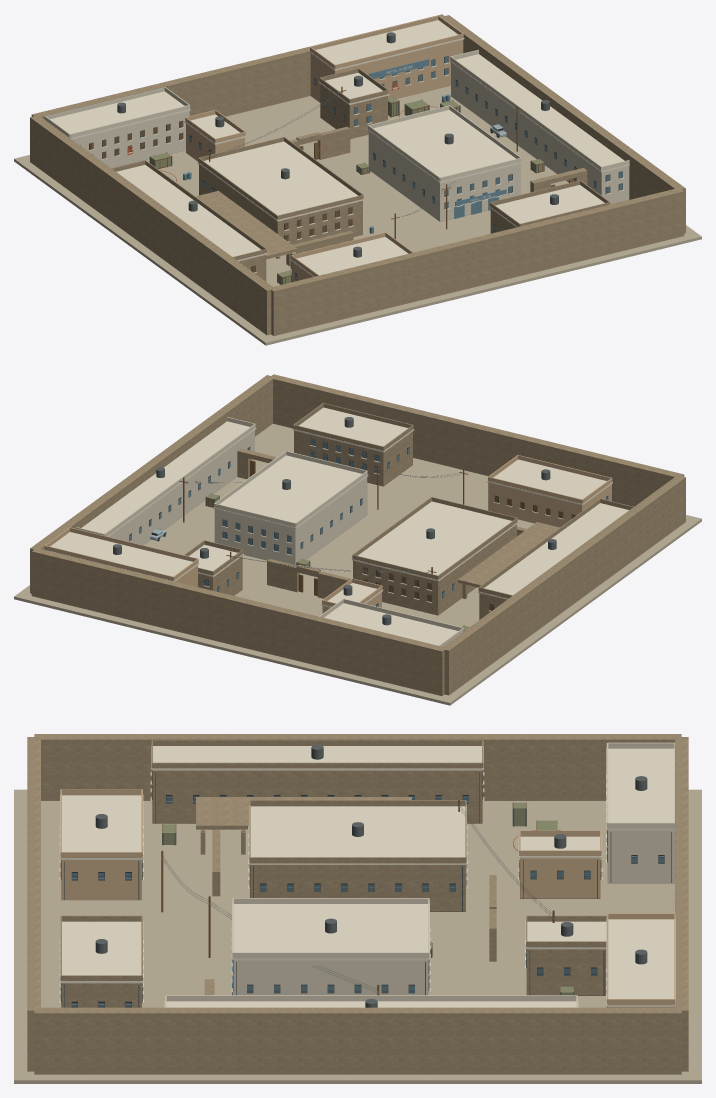
Rendered from dust_map.glb.
3 renders of one model, top to bottom at view 1: azimuth 30°, elevation 25°; view 2: azimuth 150°, elevation 25°; view 3: azimuth 270°, elevation 25°, orthographic. The views are drawn at different scales.
Visible parts, largest first — view 1: Perimeter.001, Ground, Perimeter.002, Perimeter, Cornice, Cornice.001, Building_07, Building_01, Perimeter.003, Cornice.007, Building_05, Cornice.006 (+19 smaller); view 2: Ground, Perimeter, Perimeter.002, Perimeter.001, Cornice, Building_01, Cornice.001, Perimeter.003, Building_07, Building_00, Cornice.007, Cornice.006 (+17 smaller); view 3: Ground, Perimeter.003, Perimeter.002, Cornice, Building_06, Cornice.001, Building_00, Building_01, Cornice.006, Cornice.005, Cornice.004, Cornice.002 (+26 smaller).
Part boxes in pixels (x1=…): Perimeter.001: x1=271, y1=188, x2=684, y2=335; Ground: x1=14, y1=85, x2=701, y2=345; Perimeter.002: x1=30, y1=116, x2=274, y2=335; Perimeter: x1=31, y1=14, x2=446, y2=119; Cornice: x1=197, y1=141, x2=364, y2=221; Cornice.001: x1=367, y1=110, x2=522, y2=183; Building_07: x1=451, y1=63, x2=629, y2=204; Building_01: x1=368, y1=132, x2=520, y2=221; Perimeter.003: x1=443, y1=15, x2=685, y2=233; Cornice.007: x1=450, y1=54, x2=629, y2=172; Building_05: x1=310, y1=39, x2=463, y2=102; Cornice.006: x1=116, y1=165, x2=267, y2=261; Ground: x1=14, y1=423, x2=701, y2=705; Perimeter: x1=31, y1=548, x2=446, y2=695; Perimeter.002: x1=441, y1=476, x2=685, y2=695; Perimeter.001: x1=269, y1=374, x2=684, y2=506; Cornice: x1=351, y1=501, x2=518, y2=581; Building_01: x1=214, y1=477, x2=367, y2=564; Cornice.001: x1=213, y1=455, x2=368, y2=528; Perimeter.003: x1=30, y1=375, x2=272, y2=593; Building_07: x1=109, y1=430, x2=254, y2=545; Building_00: x1=353, y1=524, x2=516, y2=615; Cornice.007: x1=81, y1=421, x2=256, y2=536; Cornice.006: x1=478, y1=503, x2=628, y2=599; Ground: x1=14, y1=789, x2=701, y2=1083; Perimeter.003: x1=34, y1=1007, x2=681, y2=1074; Perimeter.002: x1=34, y1=734, x2=681, y2=800; Cornice: x1=249, y1=805, x2=466, y2=864; Building_06: x1=152, y1=770, x2=482, y2=823; Cornice.001: x1=232, y1=903, x2=429, y2=960; Building_00: x1=250, y1=865, x2=465, y2=911; Building_01: x1=233, y1=960, x2=428, y2=995; Cornice.006: x1=151, y1=746, x2=483, y2=770; Cornice.005: x1=606, y1=919, x2=675, y2=1006; Cornice.004: x1=606, y1=748, x2=674, y2=830; Cornice.002: x1=60, y1=794, x2=143, y2=859.
Size of the model in its own units: 102 by 12.7 by 102.
Materials: 14 (1 with a texture image).
